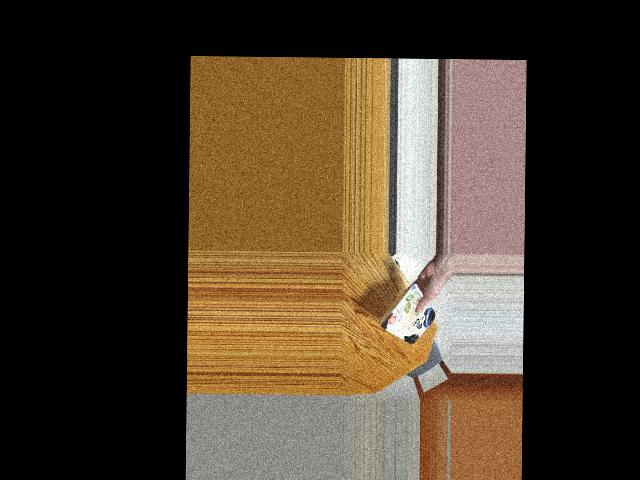cheese: (384, 291, 429, 344)
